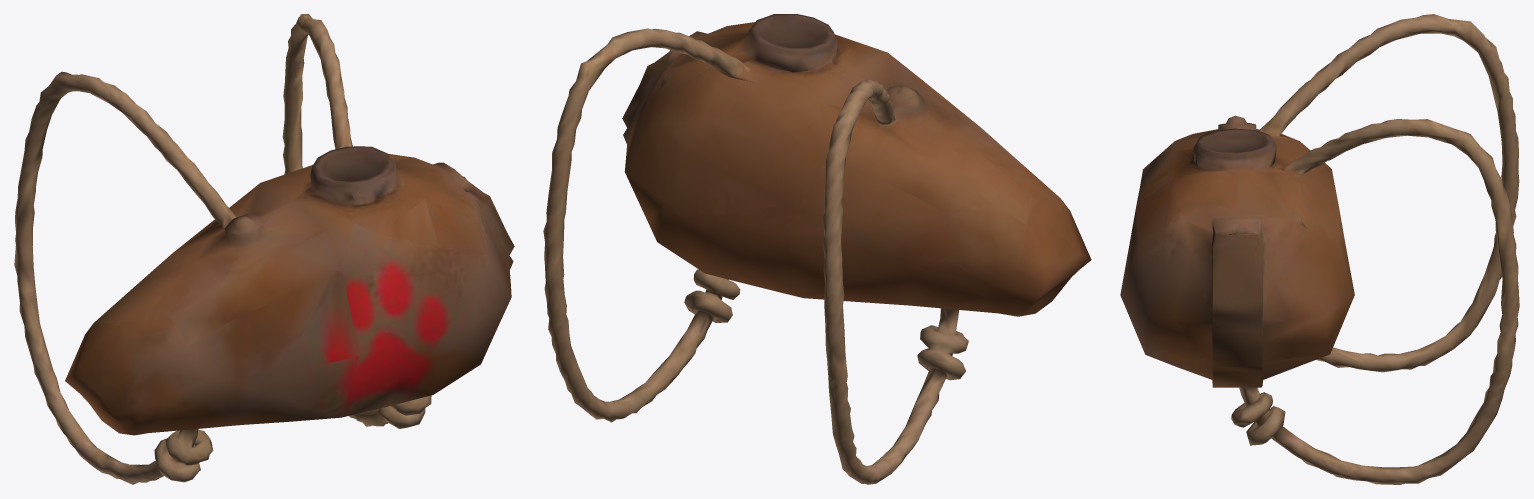
File: back_rd_tank_idle.glb
The picture shows the model from 3 angles, left to right: view 1: azimuth 30°, elevation 25°; view 2: azimuth 150°, elevation 25°; view 3: azimuth 270°, elevation 25°; orthographic projection. The views are drawn at different scales.
Visible parts, largest first — view 1: back_rd_tank; view 2: back_rd_tank; view 3: back_rd_tank.
Part boxes in pixels (<box>): back_rd_tank: <box>14,14,514,484</box>; back_rd_tank: <box>543,14,1091,484</box>; back_rd_tank: <box>1120,14,1519,484</box>.
Bounding box in the file's own units: 0.4125 × 0.36 × 0.362.
1 material, 1 textured.
